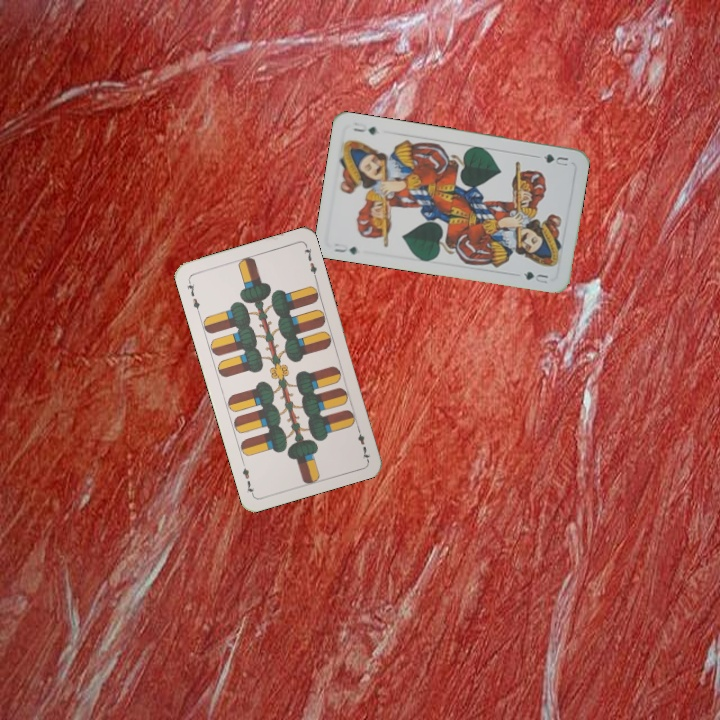E7: (353, 423, 373, 462), (183, 276, 202, 316)
GU: (538, 150, 571, 169), (330, 241, 359, 257)
